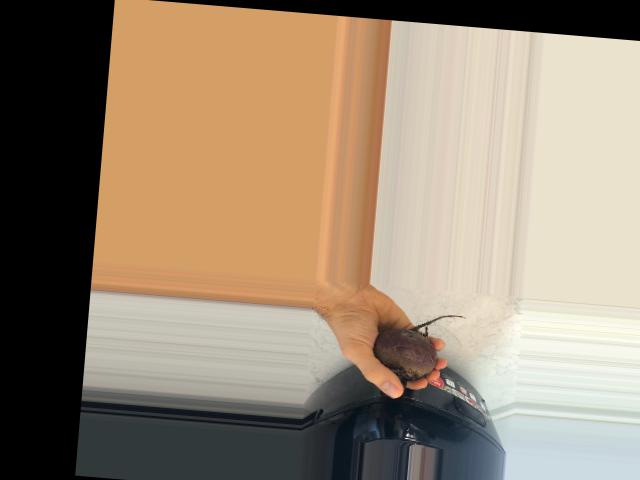beet: (371, 308, 466, 392)
